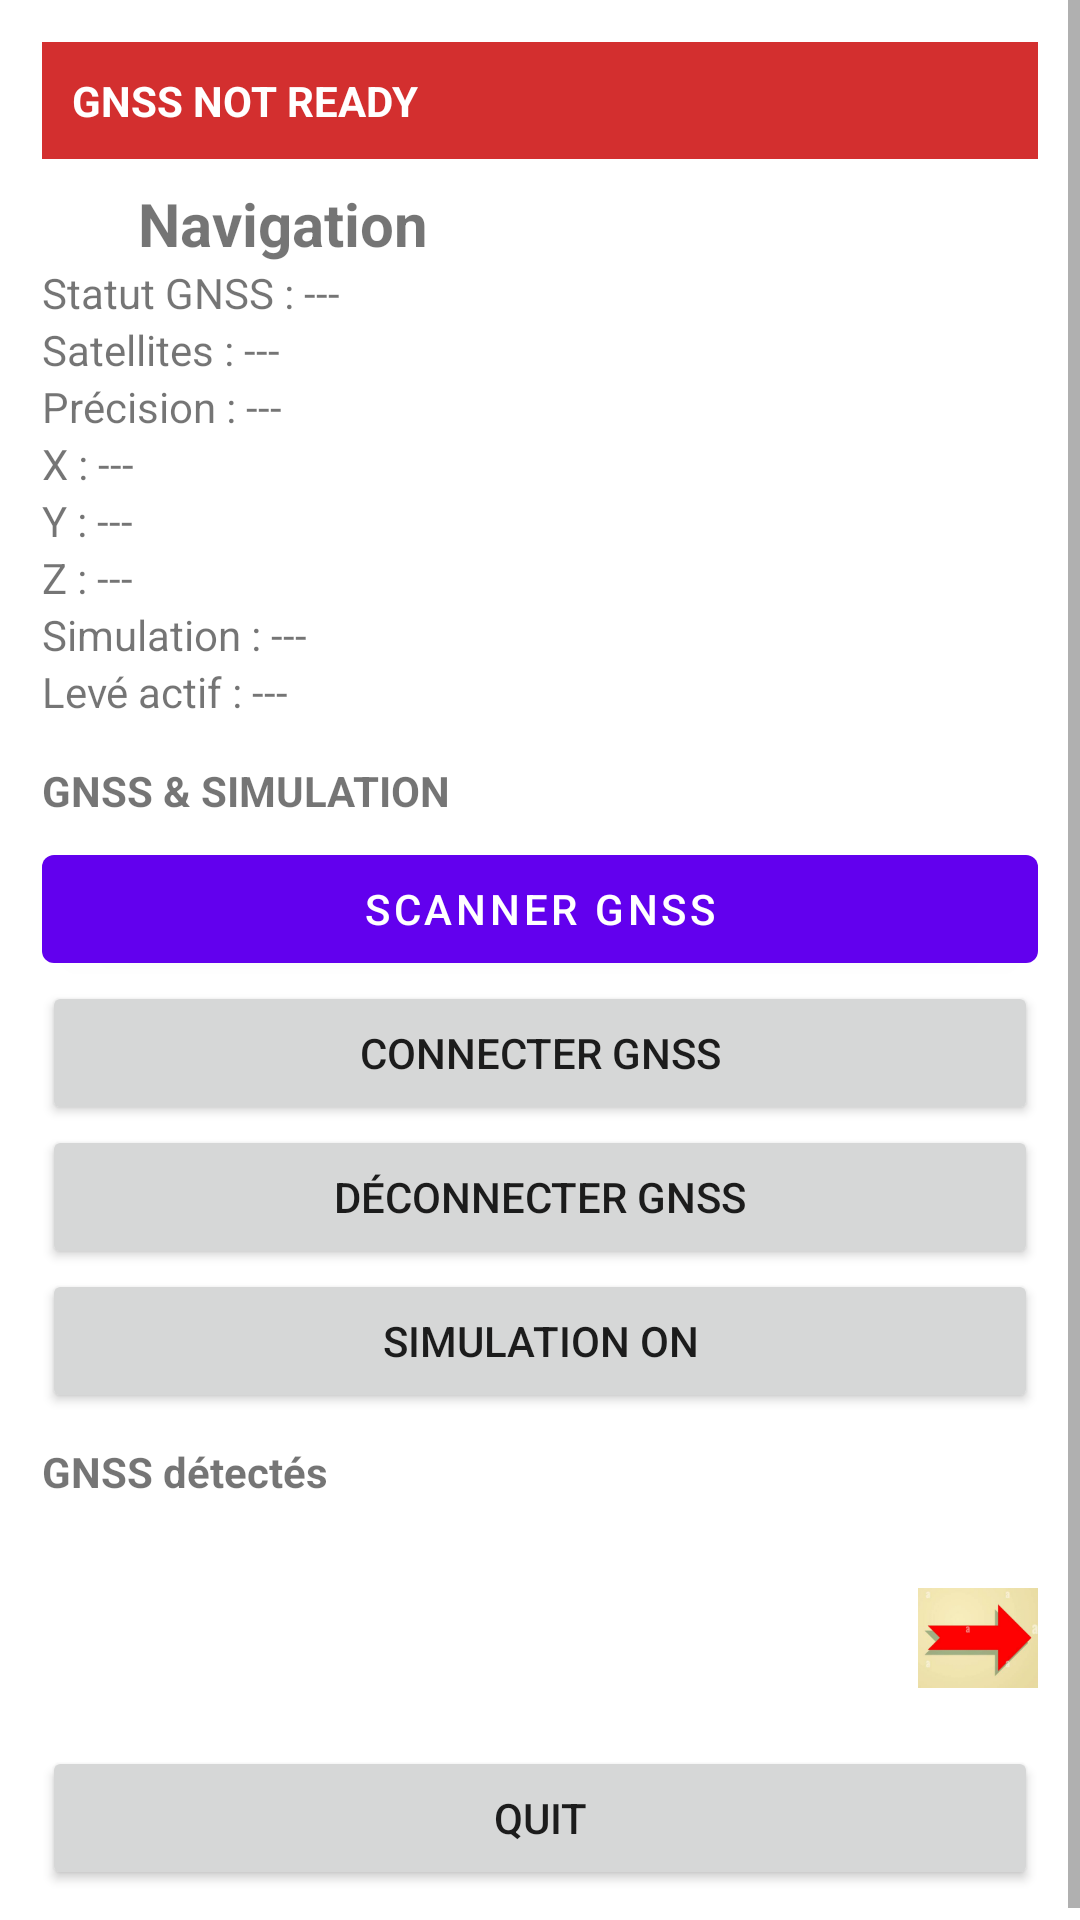

Where to tap for icons on this 1080px×1920px app screen, as point (x, y):
Next: point (978, 1638)
